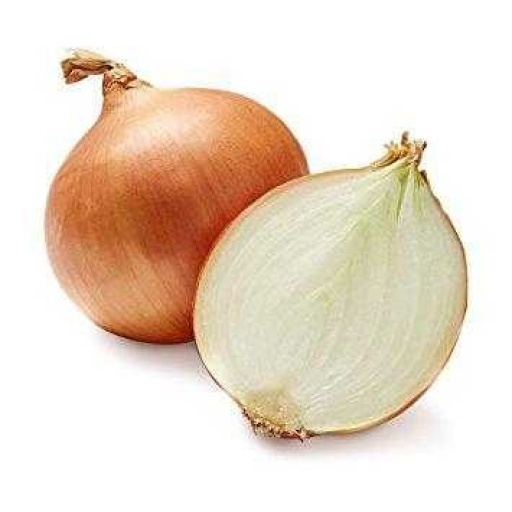Zwiebel: (193, 131, 469, 439), (43, 47, 310, 346)
